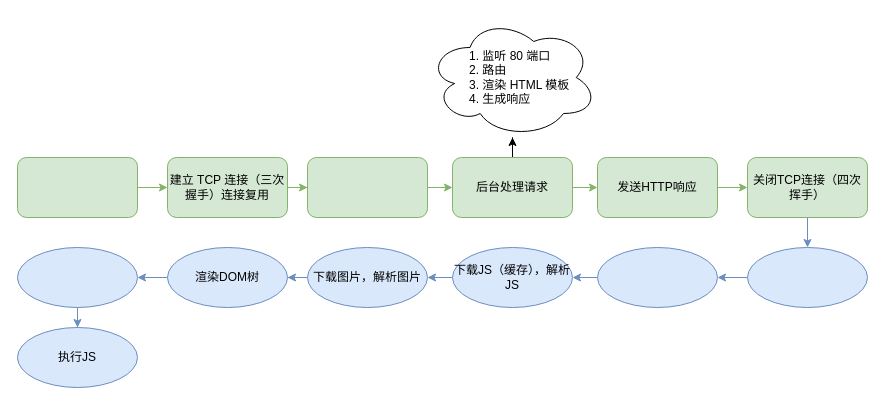
The diagram is 885 pixels wide and 405 high, and some of its shapes have lost their labels. The centre of each missing label's shape, as x and y in pixels:
"DNS 查询 DNS 缓存" goes at pixel 77 187.
"下载CSS（缓存），解析CSS" goes at pixel 657 277.
"发送 HTTP 请求（请求的四部分）" goes at pixel 367 187.
"渲染样式树" goes at pixel 77 277.
"解析HTML" goes at pixel 807 277.
